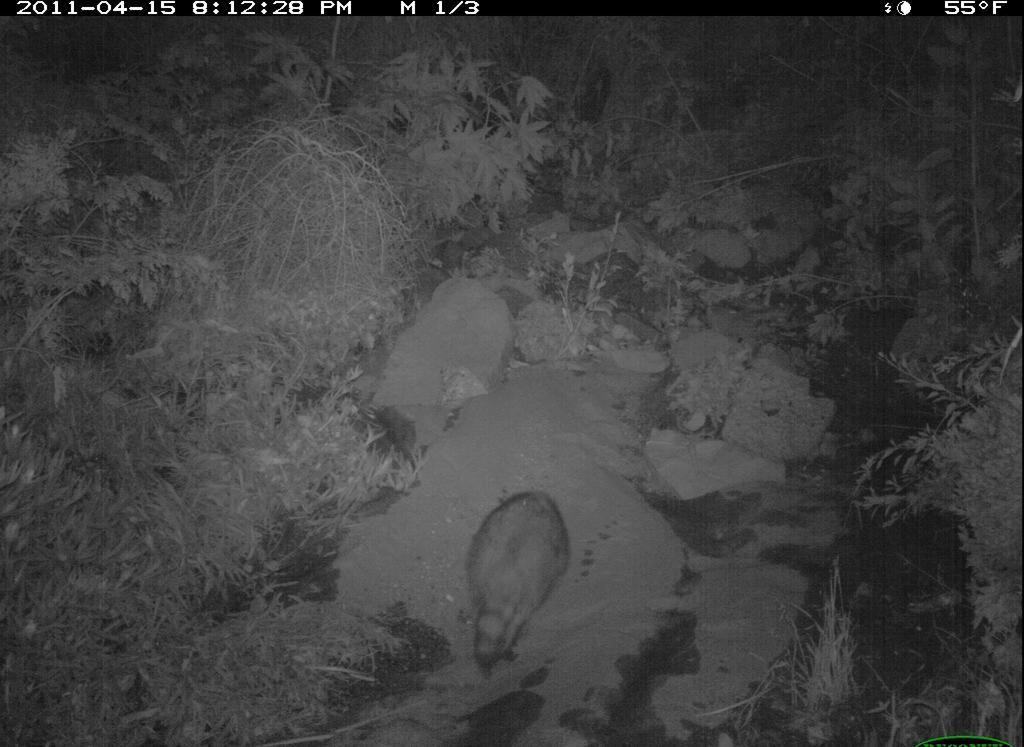raccoon: (452, 486, 584, 676)
